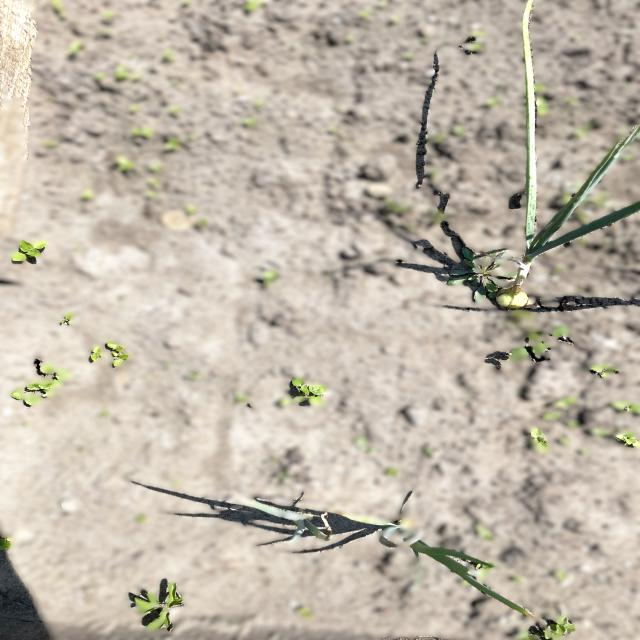Onion: (491, 127, 640, 310), (360, 509, 520, 610), (238, 502, 339, 540)
weed: (499, 324, 578, 368), (454, 241, 510, 303), (4, 356, 68, 410), (127, 577, 186, 633), (84, 338, 138, 370), (287, 375, 332, 409), (522, 612, 575, 640), (9, 236, 52, 266), (524, 426, 556, 452), (608, 429, 640, 451)
